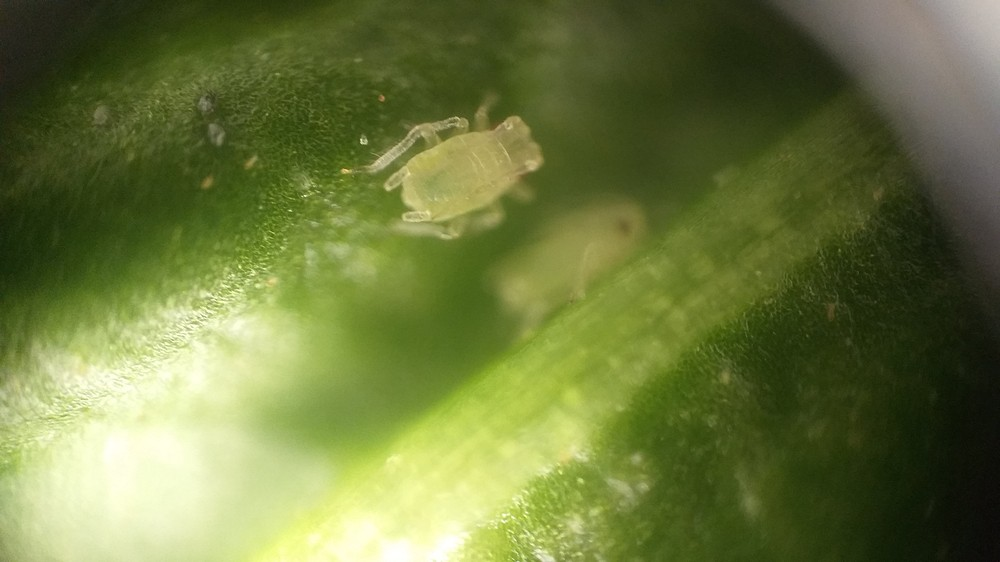Pulgon: (350, 84, 565, 244)
